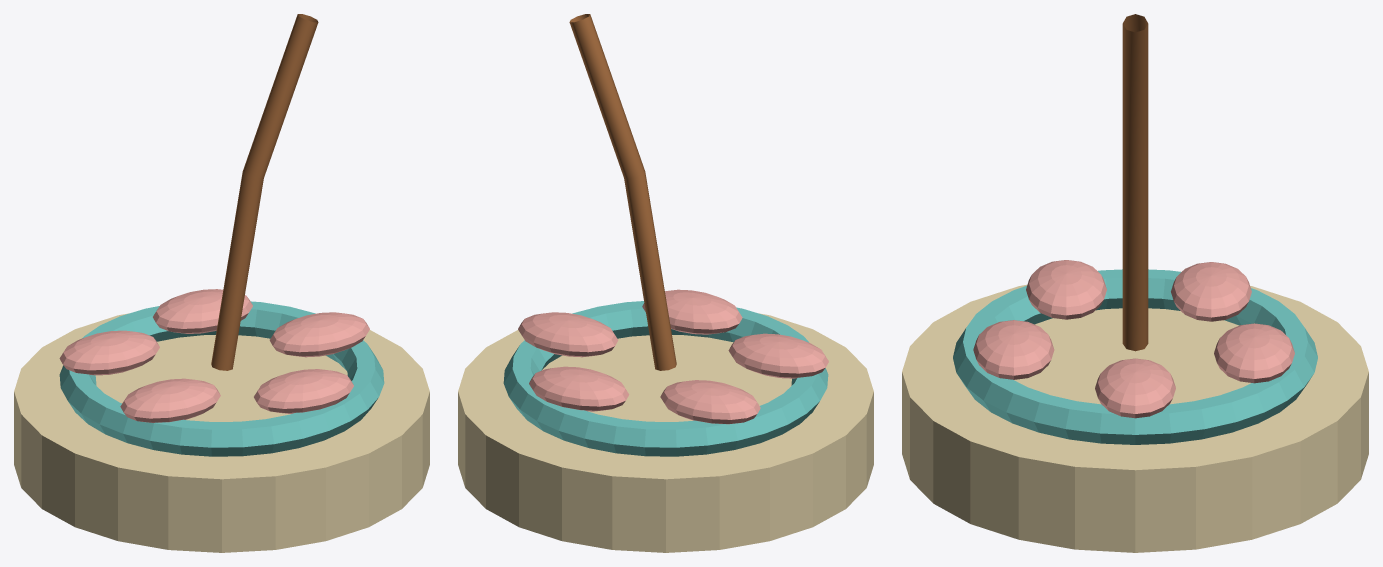
The model's file is japan-tidepool-light.glb.
3 views of the same model, side by side, from view 1: azimuth 30°, elevation 25°; view 2: azimuth 150°, elevation 25°; view 3: azimuth 270°, elevation 25° (orthographic). The views are drawn at different scales.
Visible parts, largest first — view 1: はまいし, みずの ふち, ゆれる すすき, しおだまりの かい, しおだまりの かい.001, しおだまりの かい.004, しおだまりの かい.002, しおだまりの かい.003; view 2: はまいし, みずの ふち, ゆれる すすき, しおだまりの かい, しおだまりの かい.004, しおだまりの かい.003, しおだまりの かい.001, しおだまりの かい.002; view 3: はまいし, みずの ふち, ゆれる すすき, しおだまりの かい.003, しおだまりの かい.002, しおだまりの かい, しおだまりの かい.004, しおだまりの かい.001.
Boxes of the visible parts, bbox=[...] form: はまいし: bbox=[14, 313, 429, 552]; みずの ふち: bbox=[59, 301, 384, 456]; ゆれる すすき: bbox=[211, 14, 318, 370]; しおだまりの かい: bbox=[269, 312, 369, 357]; しおだまりの かい.001: bbox=[59, 330, 159, 375]; しおだまりの かい.004: bbox=[120, 378, 220, 422]; しおだまりの かい.002: bbox=[254, 369, 353, 413]; しおだまりの かい.003: bbox=[153, 289, 252, 333]; はまいし: bbox=[458, 313, 873, 552]; みずの ふち: bbox=[503, 301, 828, 456]; ゆれる すすき: bbox=[569, 14, 676, 370]; しおだまりの かい: bbox=[518, 312, 618, 357]; しおだまりの かい.004: bbox=[728, 333, 828, 378]; しおだまりの かい.003: bbox=[529, 366, 629, 411]; しおだまりの かい.001: bbox=[660, 380, 760, 424]; しおだまりの かい.002: bbox=[642, 289, 742, 334]; はまいし: bbox=[902, 284, 1368, 552]; みずの ふち: bbox=[953, 269, 1317, 444]; ゆれる すすき: bbox=[1122, 14, 1148, 351]; しおだまりの かい.003: bbox=[1214, 323, 1294, 383]; しおだまりの かい.002: bbox=[973, 320, 1054, 379]; しおだまりの かい: bbox=[1095, 358, 1175, 418]; しおだまりの かい.004: bbox=[1026, 260, 1106, 319]; しおだまりの かい.001: bbox=[1171, 262, 1251, 321].
Size of the model in its own units: 0.92 by 1.05 by 0.92.
